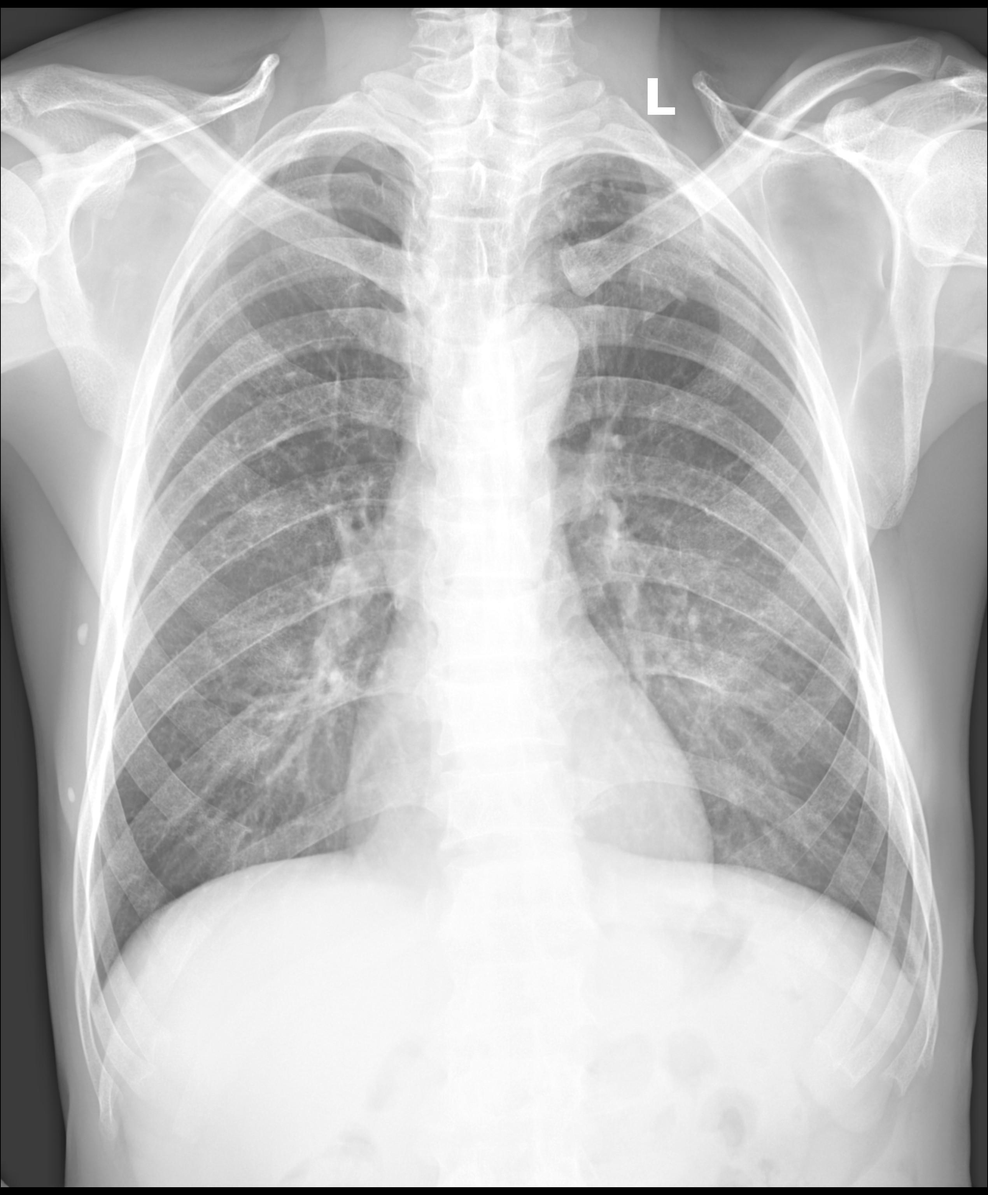Pulmonary fibrosis: (573, 165, 624, 248)
